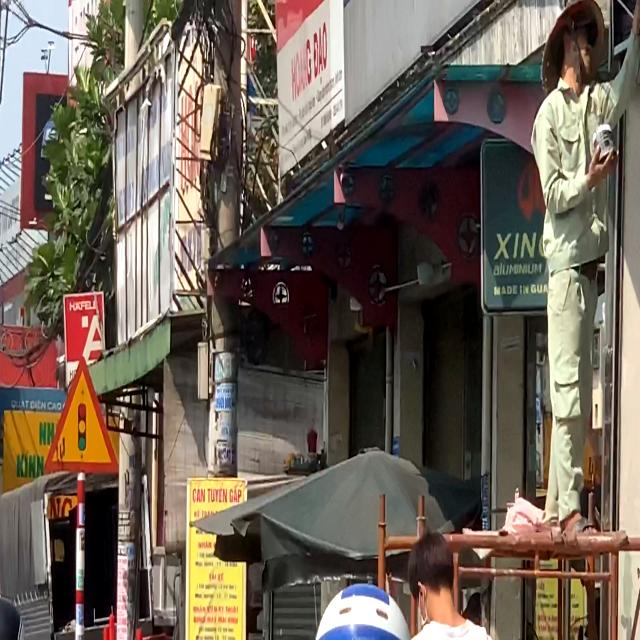W.209: (38, 344, 125, 483)
